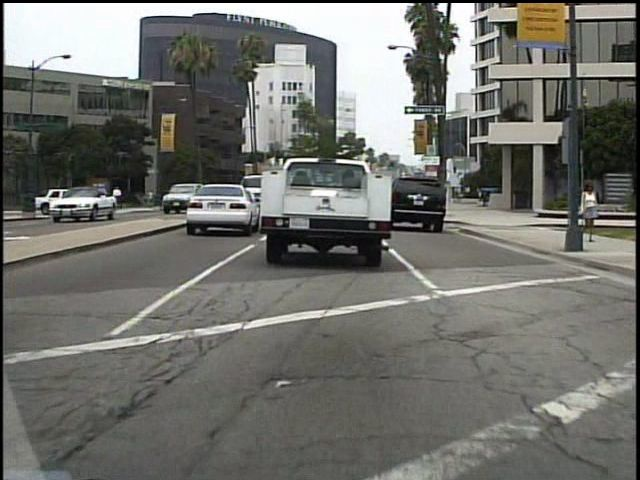person: (577, 175, 599, 247), (107, 181, 122, 214), (105, 188, 120, 219), (148, 187, 157, 209)
